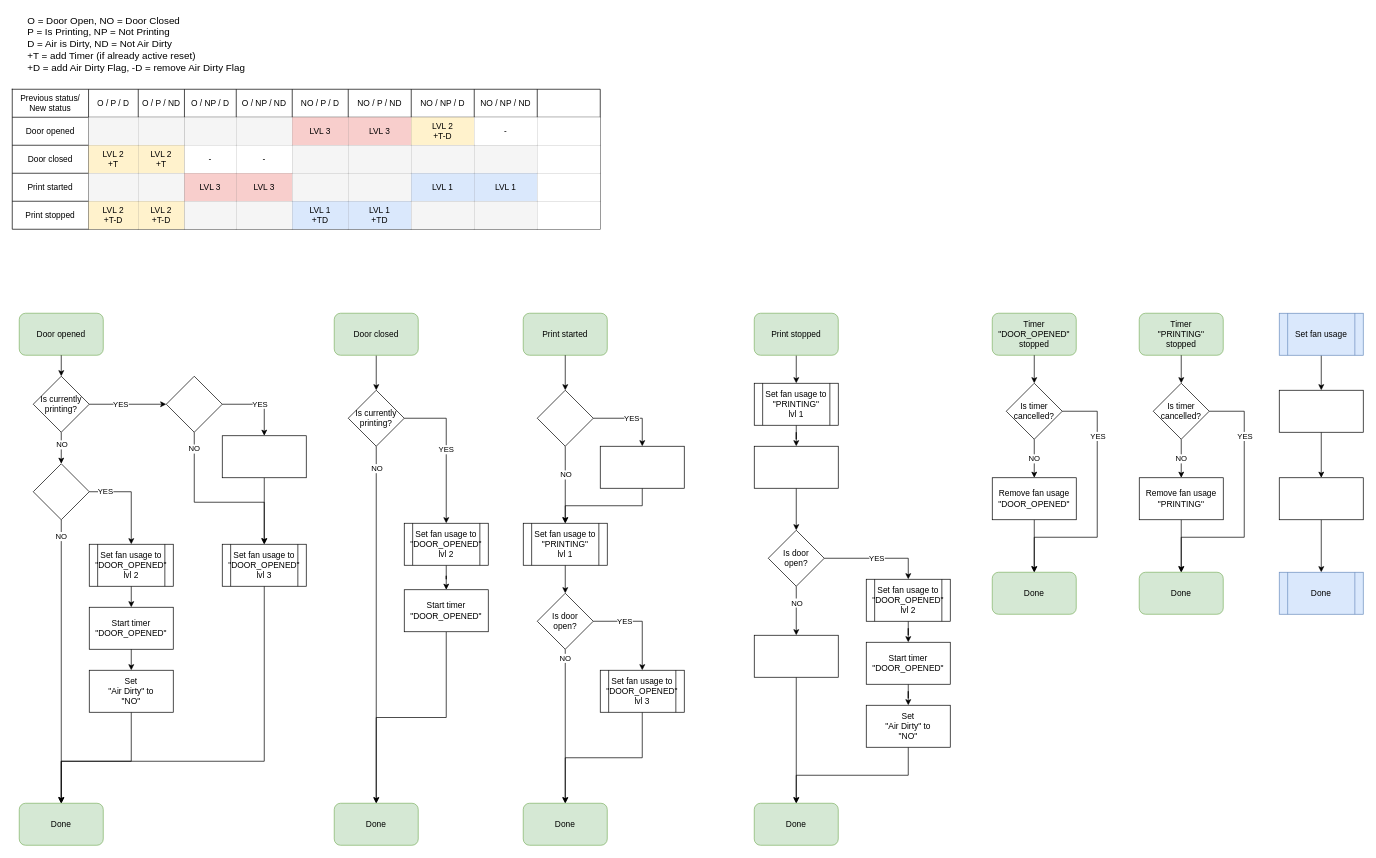
The diagram is 1376 pixels wide and 858 high, and some of its shapes have lost their labels. Each missing label, with the centre of its shape:
Cancel timer "DOOR_OPENED": pixel 264 456
Cancel timer "PRINTING": pixel 642 467
Execute highest fan usage lvl from set: pixel 1321 498
Is air dirty?: pixel 61 491
Is timer "DOOR_OPENED" active?: pixel 194 404
Is timer "PRINTING" active?: pixel 565 418
Save to fan usage set: pixel 1321 411
Set "Air Dirty" to "YES": pixel 796 656
Start timer "PRINTING": pixel 796 467
